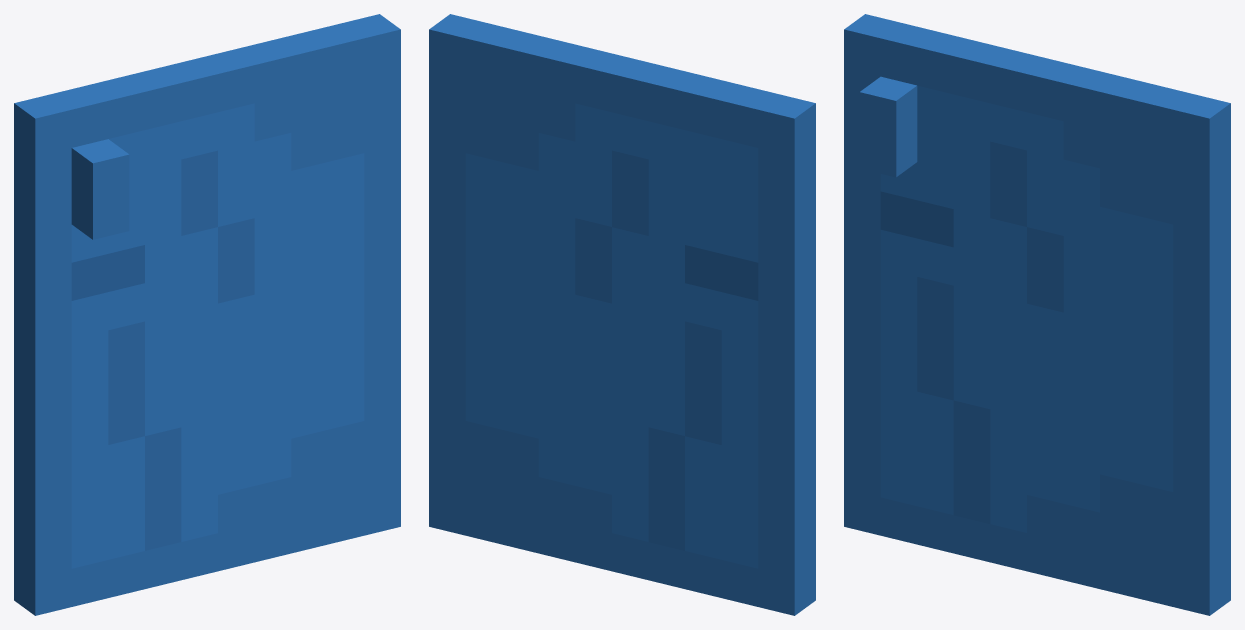
File: Kitchen_cabinets-10.obj
3 renders of one model, left to right at view 1: azimuth 30°, elevation 25°; view 2: azimuth 150°, elevation 25°; view 3: azimuth 330°, elevation 25°, orthographic.
Size of the model in its own units: 1 by 1.3 by 0.2.
Materials: 1 (1 with a texture image).
